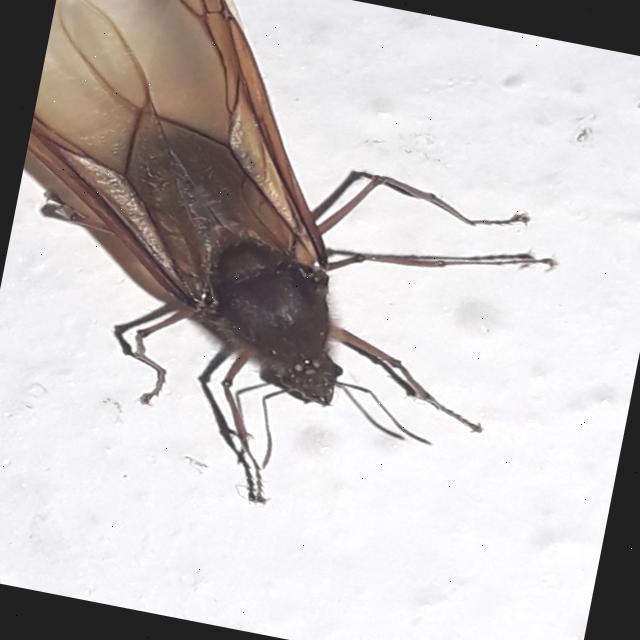Alive-Male-Alate: (0, 0, 598, 552)
